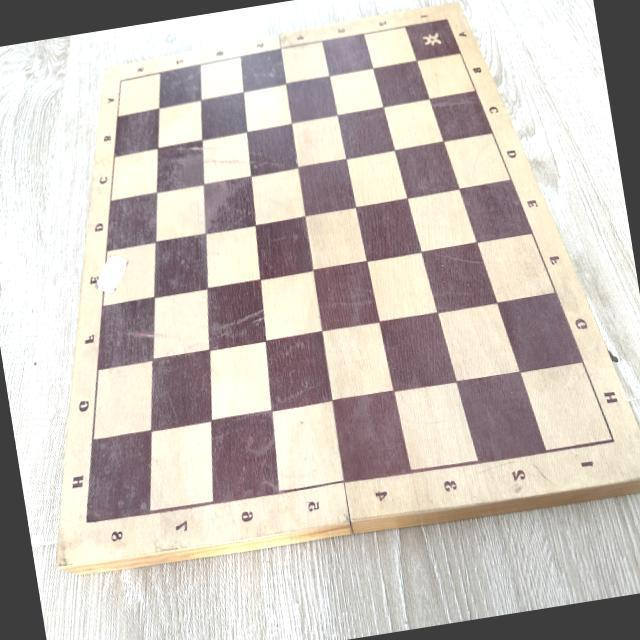chess-table-corners: (72, 504, 102, 541), (601, 426, 626, 454), (441, 10, 454, 28), (114, 73, 128, 89)
